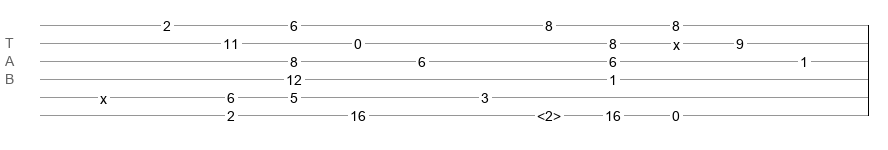0: (354, 36, 362, 46), (672, 108, 680, 118)
1: (609, 72, 617, 82), (800, 54, 808, 64)
11: (223, 36, 239, 46)
12: (286, 72, 302, 82)
16: (350, 108, 366, 118), (605, 108, 621, 118)
2: (163, 18, 171, 28), (227, 108, 235, 118)
3: (481, 90, 489, 100)
5: (290, 90, 298, 100)
6: (227, 90, 235, 100), (290, 18, 298, 28), (418, 54, 426, 64), (609, 54, 617, 64)
8: (290, 54, 298, 64), (545, 18, 553, 28), (609, 36, 617, 46), (672, 18, 680, 28)
9: (736, 36, 744, 46)
harmonic: (537, 108, 561, 118)
x: (100, 91, 107, 99), (673, 37, 680, 45)
